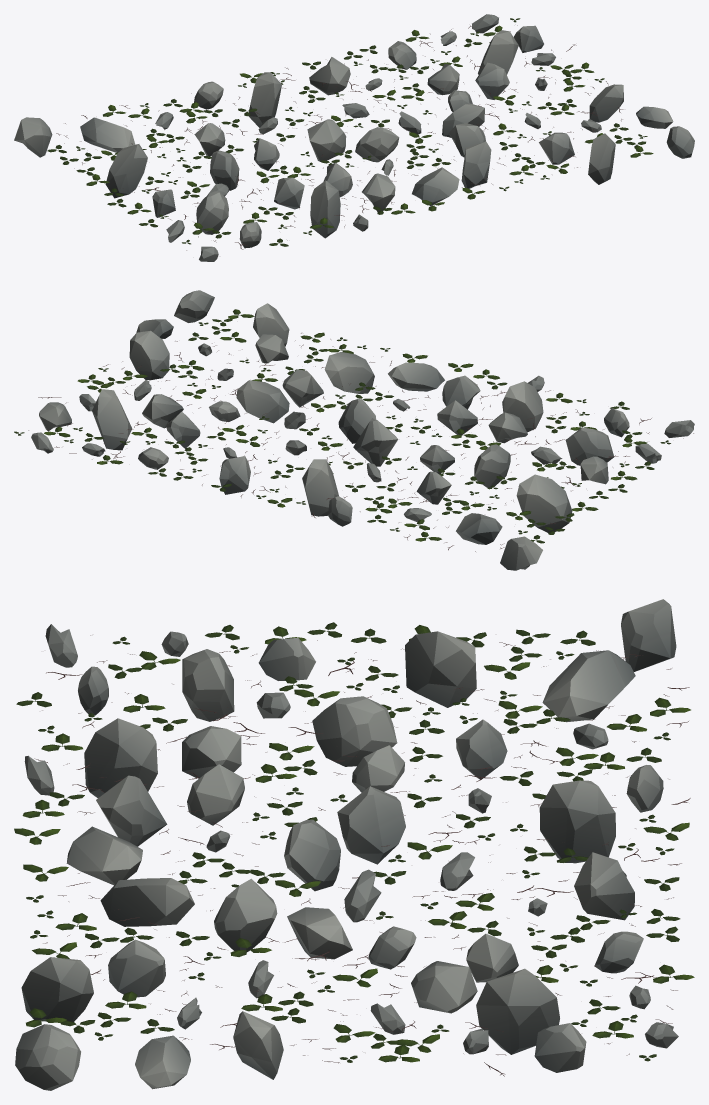
The model's file is SM_Nature_Props_Scatter_Rocks_Leave_Only.fbx.
3 renders of one model, top to bottom at view 1: azimuth 30°, elevation 25°; view 2: azimuth 150°, elevation 25°; view 3: azimuth 270°, elevation 25°, orthographic. The views are drawn at different scales.
Visible parts, largest first — view 1: SM_Nature_Props_Scatter_Rocks_Leave_Only; view 2: SM_Nature_Props_Scatter_Rocks_Leave_Only; view 3: SM_Nature_Props_Scatter_Rocks_Leave_Only.
Boxes of the visible parts, x1,y1,x2,y2 form: SM_Nature_Props_Scatter_Rocks_Leave_Only: (14, 14, 694, 261); SM_Nature_Props_Scatter_Rocks_Leave_Only: (14, 290, 694, 570); SM_Nature_Props_Scatter_Rocks_Leave_Only: (14, 599, 694, 1090).
Bounding box in the file's own units: 15.26 × 1.47 × 9.62.
